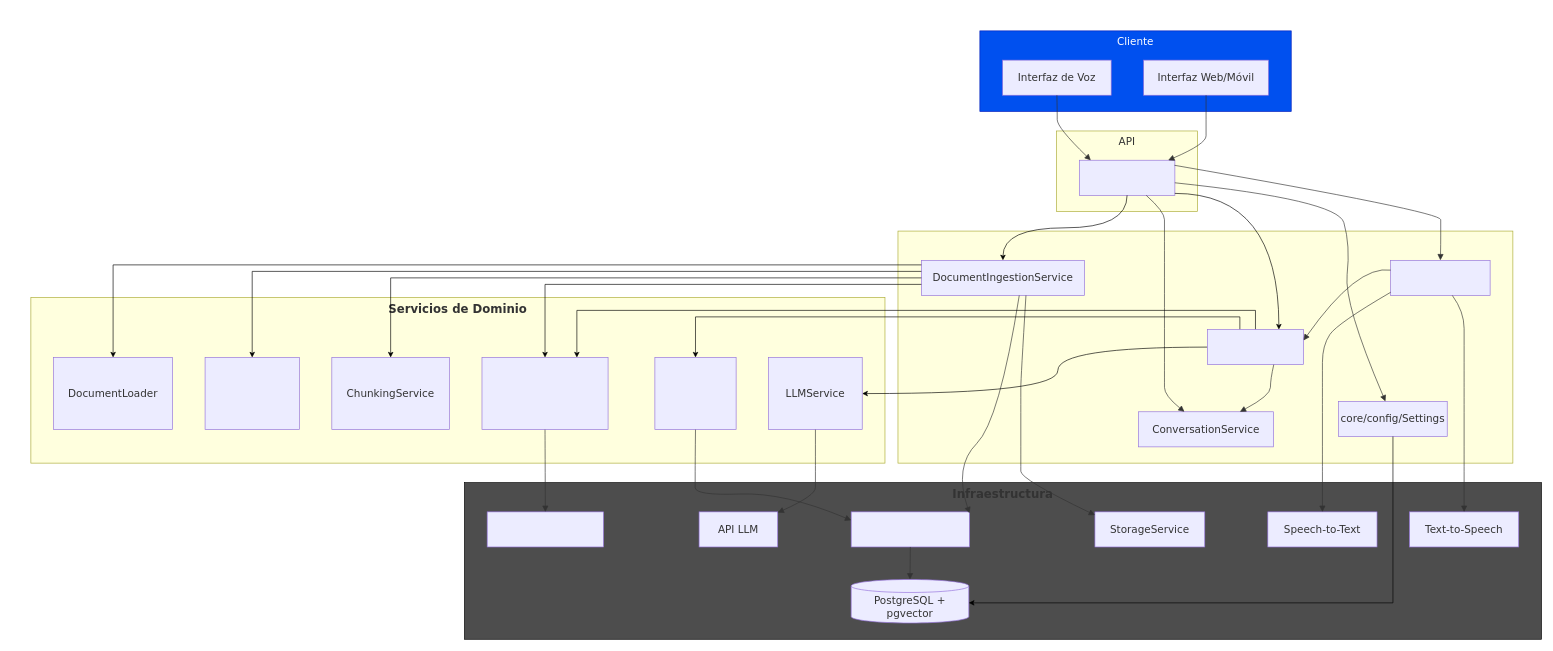
Image size: 1553x651. Some labels were removed from this diagram. Each missing label, with the box of its shape:
API Embeddings: (487, 511, 604, 547)
API FastAPI: (1079, 160, 1175, 195)
EmbeddingService: (481, 357, 608, 430)
RAGService: (1207, 329, 1304, 365)
Retriever: (654, 357, 736, 430)
Servicios de Aplicación: (897, 230, 1513, 463)
TextCleaner: (204, 357, 299, 430)
VectorRepository: (851, 511, 969, 547)
VoiceService: (1390, 260, 1490, 295)
